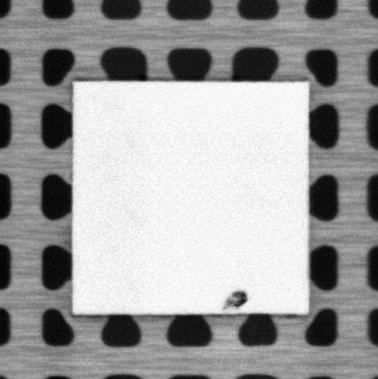DIE_INK: (221, 288, 248, 310)
